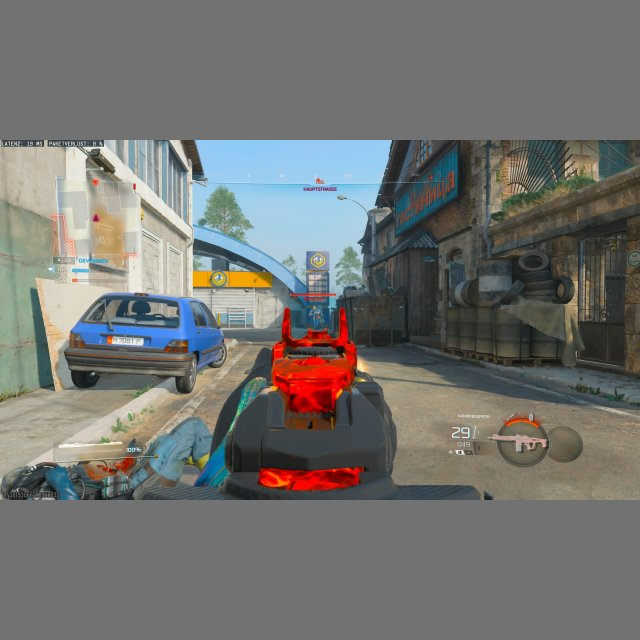player: (310, 306, 322, 328)
